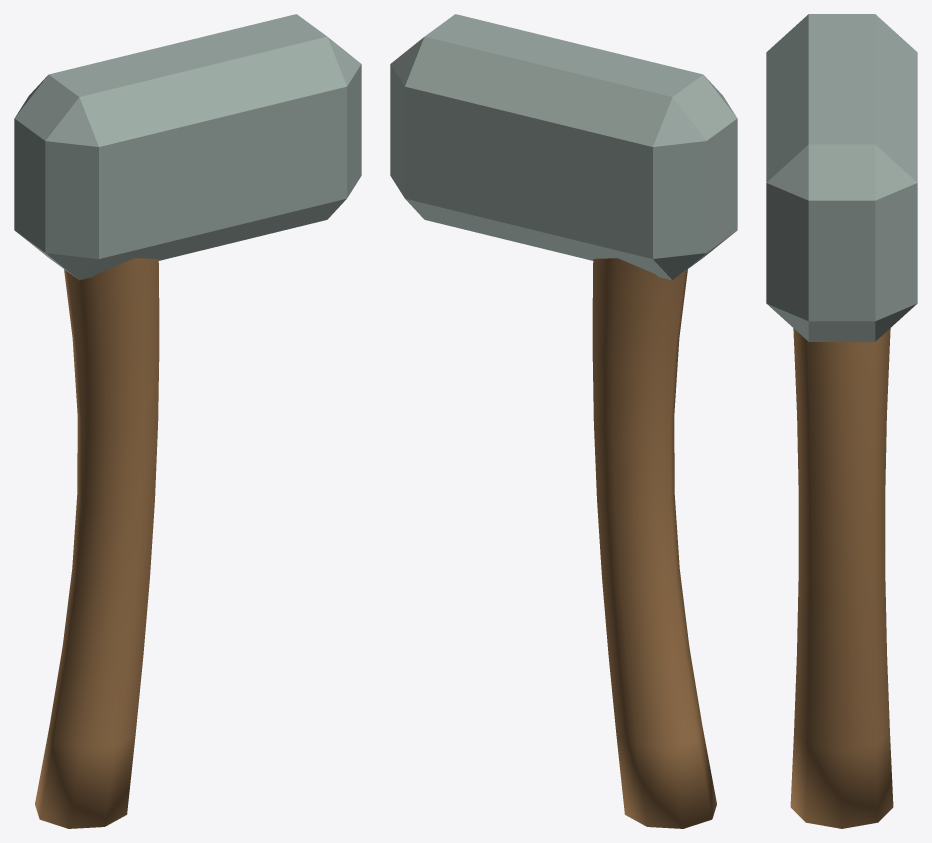
File: direct-200.glb
The picture shows the model from 3 angles, left to right: view 1: azimuth 30°, elevation 25°; view 2: azimuth 150°, elevation 25°; view 3: azimuth 270°, elevation 25°; orthographic projection. The views are drawn at different scales.
Parts seen in each view (by area): view 1: Cube.001, Handle.001; view 2: Cube.001, Handle.001; view 3: Cube.001, Handle.001.
Boxes of the visible parts, <box> form: Cube.001: <box>14,14,361,280</box>; Handle.001: <box>35,258,159,828</box>; Cube.001: <box>390,14,737,280</box>; Handle.001: <box>592,258,716,828</box>; Cube.001: <box>766,14,917,341</box>; Handle.001: <box>790,328,893,828</box>.
Size of the model in its own units: 0.65 by 1.43 by 0.25.
